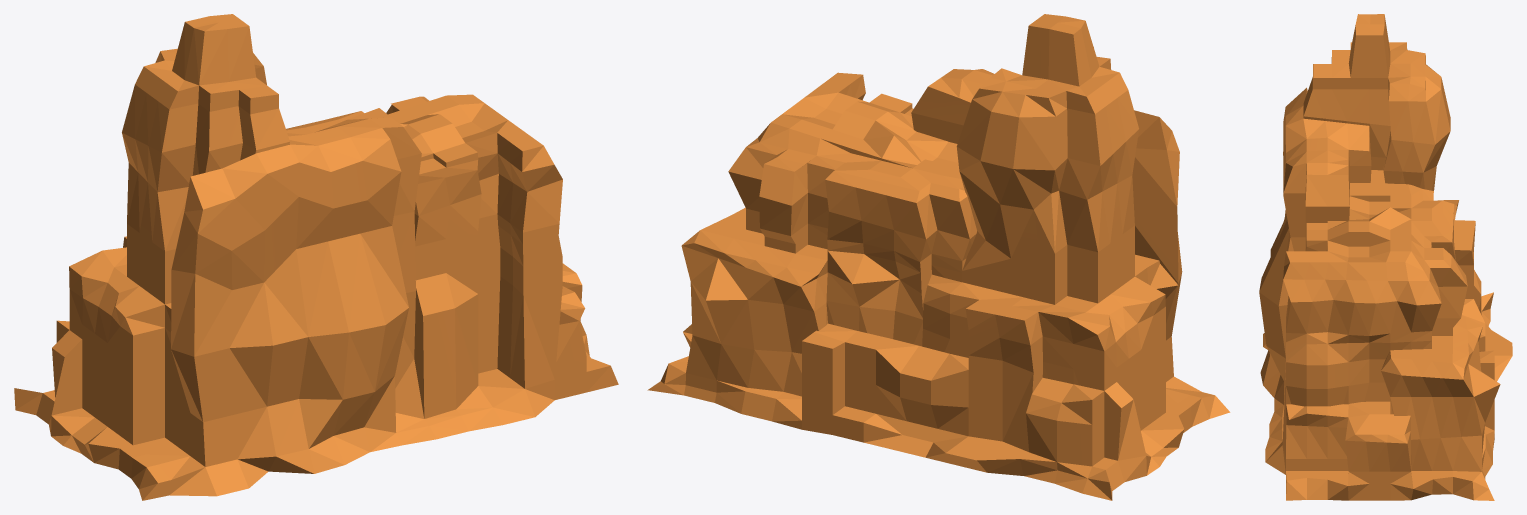
The model's file is clifBig_1.fbx.
The picture shows the model from 3 angles, left to right: view 1: azimuth 30°, elevation 25°; view 2: azimuth 150°, elevation 25°; view 3: azimuth 270°, elevation 25°; orthographic projection. The views are drawn at different scales.
Parts seen in each view (by area): view 1: pPlane1; view 2: pPlane1; view 3: pPlane1.
Part boxes in pixels (x1,y1,x2,y2): pPlane1: (14, 14, 618, 500); pPlane1: (647, 14, 1230, 500); pPlane1: (1259, 14, 1512, 500).
Size of the model in its own units: 26687 by 21429 by 14487.
